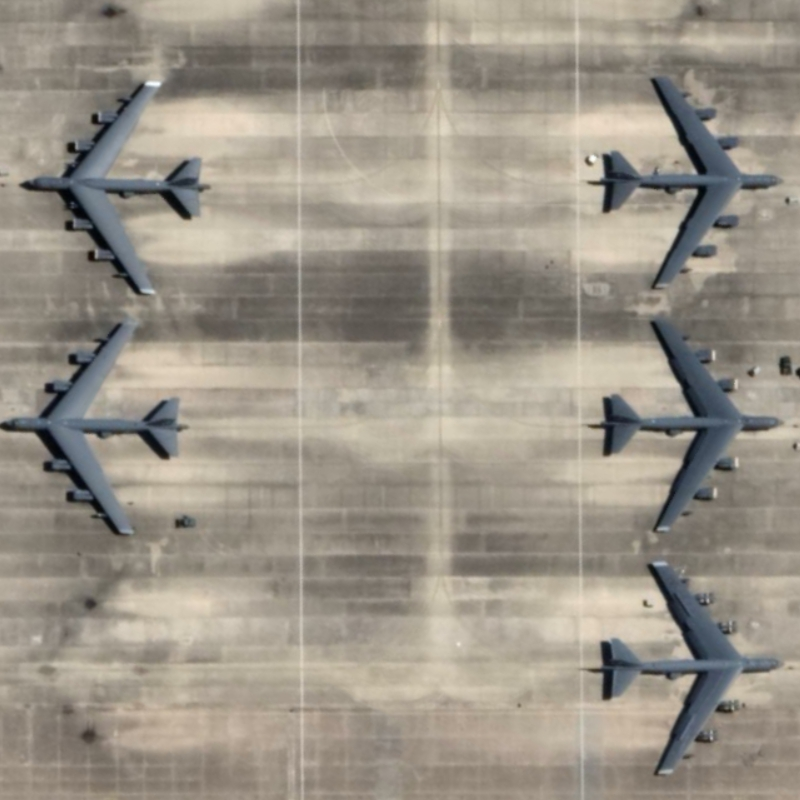A8: (589, 309, 792, 545), (596, 63, 792, 305), (593, 550, 790, 788), (15, 74, 218, 301), (1, 311, 189, 539)
